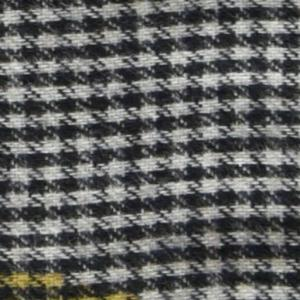Stain: (1, 264, 147, 300)
